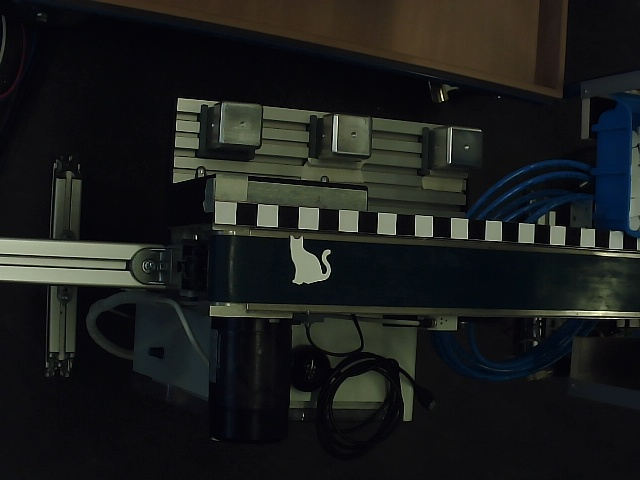cat: (287, 235, 333, 284)
